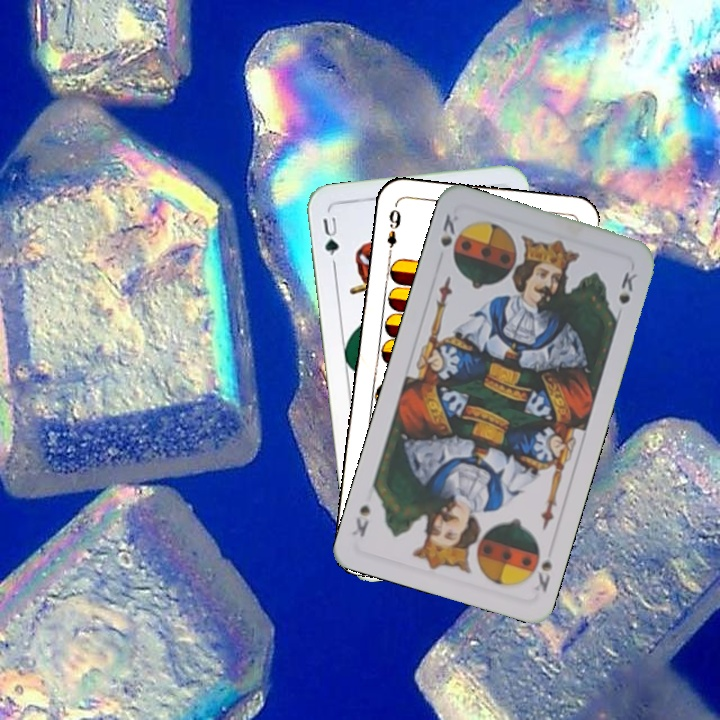E9: (383, 201, 404, 260)
GU: (318, 212, 342, 268)
SK: (530, 554, 555, 599), (436, 210, 461, 250)
